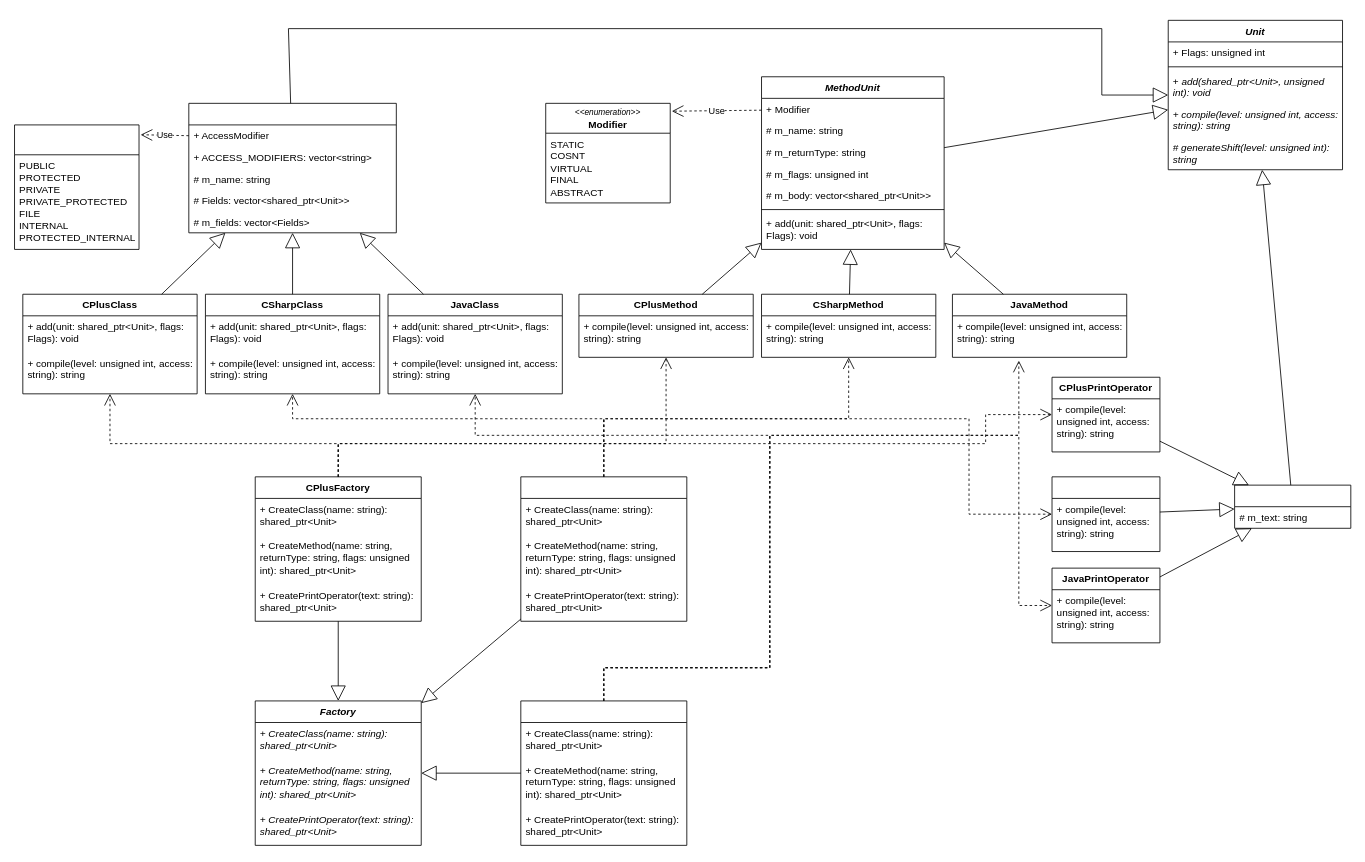
Some shapes in this 1365 by 862 pixel diagram are drawn without their labels. Each missing label, with the box of its shape:
<<enumeration>> AccessModifier: (14, 124, 139, 249)
ClassUnit: (188, 103, 396, 233)
CSharpFactory: (520, 476, 687, 621)
CSharpPrintOperator: (1051, 476, 1160, 552)
JavaFactory: (520, 700, 687, 845)
PrintOperatorUnit: (1234, 484, 1351, 528)
